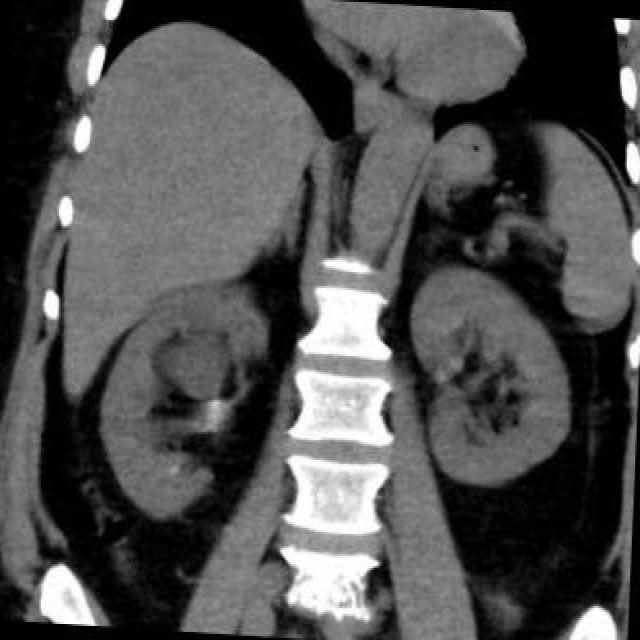Tas_Var: (206, 391, 224, 419), (168, 463, 181, 477)
